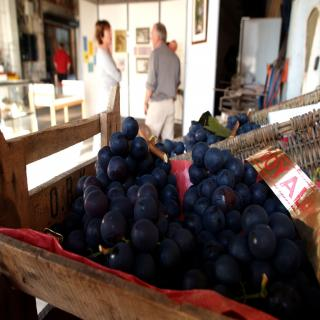Grape: (64, 116, 320, 320), (163, 112, 262, 156)
